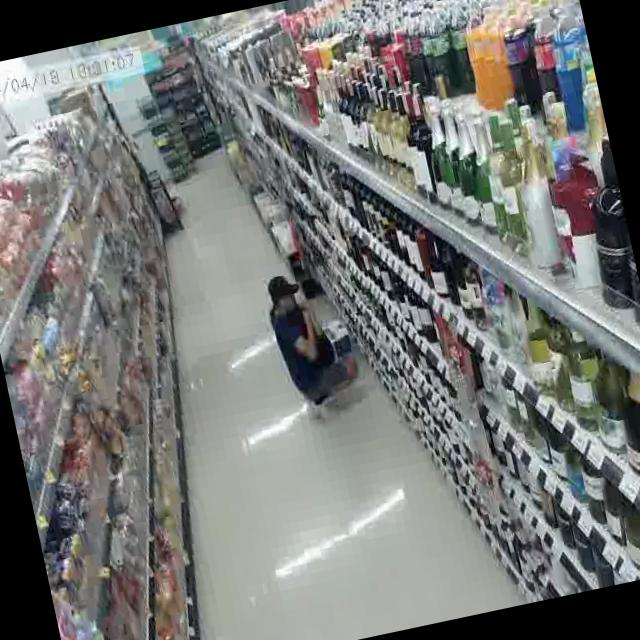shoplifting: (249, 248, 378, 435)
